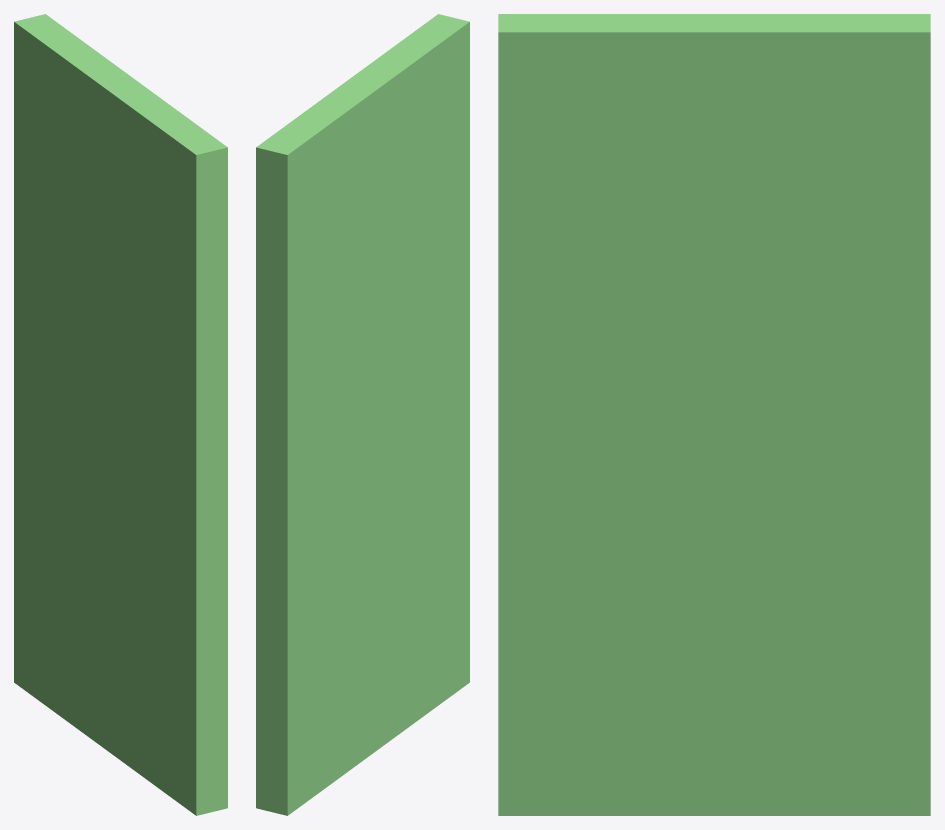
The model's file is SM_Wall1.fbx.
3 views of the same model, side by side, from view 1: azimuth 30°, elevation 25°; view 2: azimuth 150°, elevation 25°; view 3: azimuth 270°, elevation 25° (orthographic). The views are drawn at different scales.
Visible parts, largest first — view 1: SM_Wall_01; view 2: SM_Wall_01; view 3: SM_Wall_01.
Boxes of the visible parts, x1,y1,x2,y2 form: SM_Wall_01: (14, 14, 227, 815); SM_Wall_01: (256, 14, 469, 815); SM_Wall_01: (498, 14, 930, 815).
Size of the model in its own units: 20 by 400 by 200.
